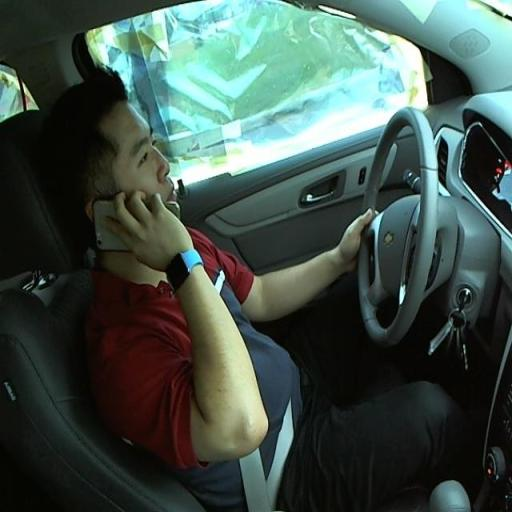talking_phone: (54, 172, 444, 463)
